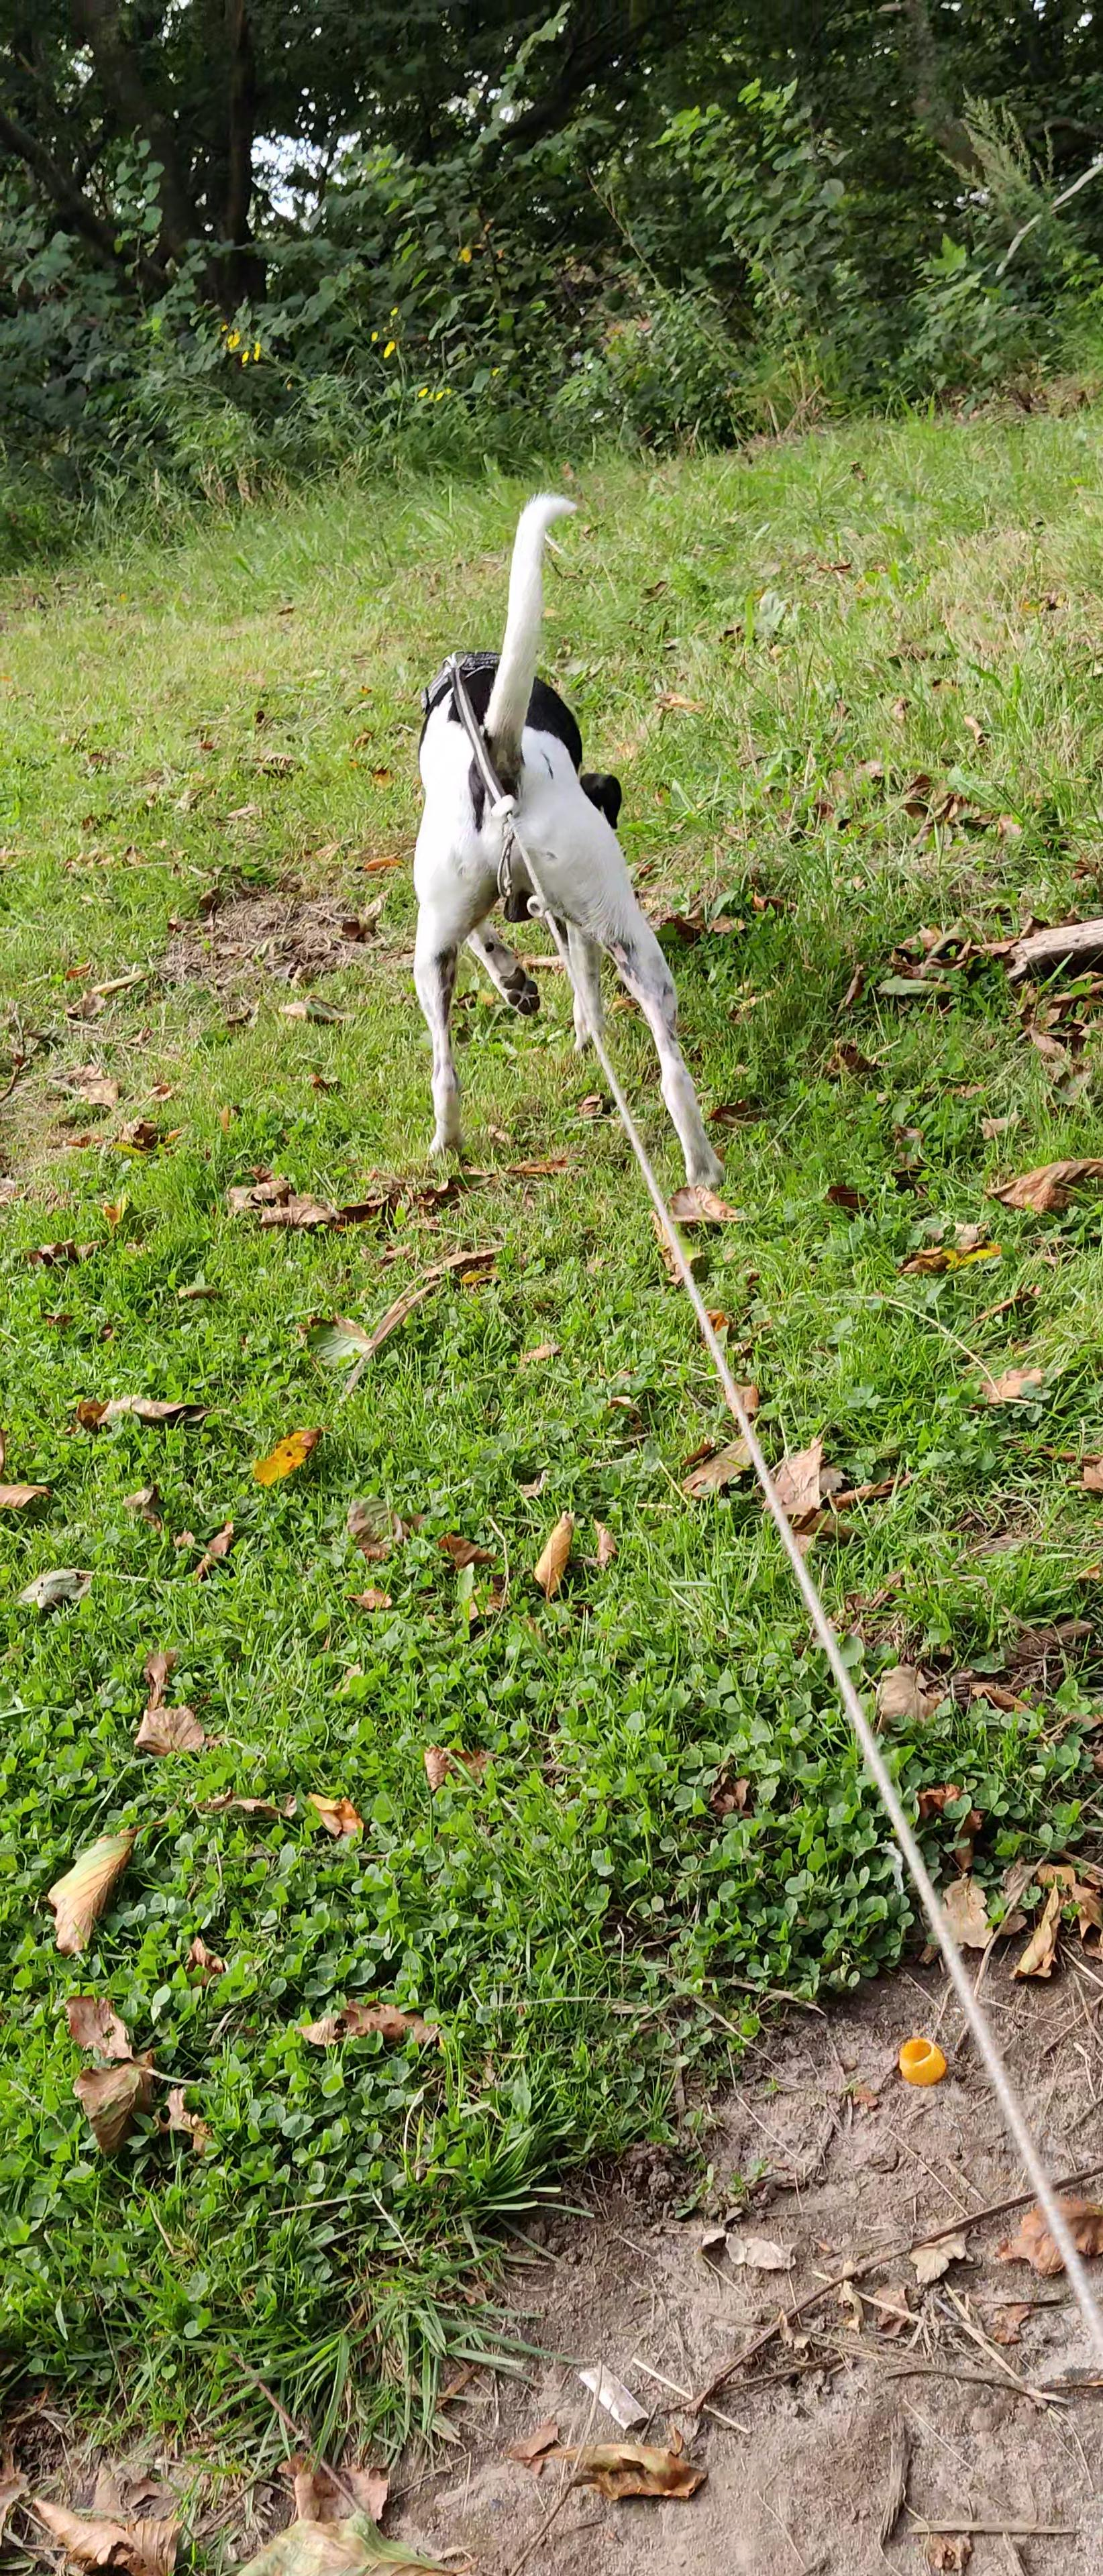Dog: (347, 468, 761, 1216)
